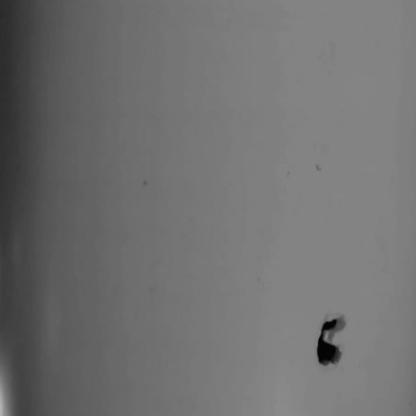kongdong: (306, 311, 355, 370)
